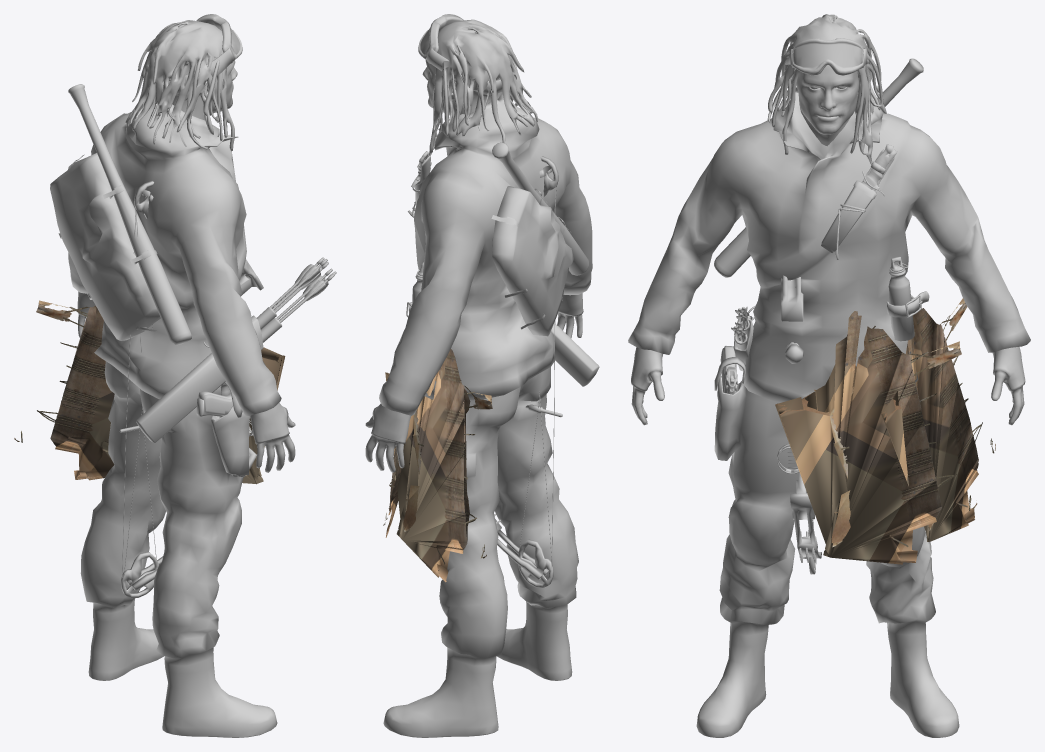
Rendered from hunter.fbx.
The picture shows the model from 3 angles, left to right: view 1: azimuth 30°, elevation 25°; view 2: azimuth 150°, elevation 25°; view 3: azimuth 270°, elevation 25°; orthographic projection. The views are drawn at different scales.
Parts seen in each view (by area): view 1: survivor, Tannery, bow, arrow_bunch, Tannery.001; view 2: survivor, Tannery, bow, Tannery.001; view 3: survivor, Tannery.001, Tannery, bow.
Boxes of the visible parts, x1,y1,x2,y2 form: survivor: (50, 14, 295, 737); Tannery: (14, 300, 114, 480); bow: (119, 180, 263, 597); arrow_bunch: (270, 257, 336, 322); Tannery.001: (242, 347, 285, 484); survivor: (365, 14, 599, 737); Tannery: (385, 349, 492, 582); bow: (494, 156, 562, 587); Tannery.001: (383, 443, 405, 537); survivor: (628, 14, 1030, 737); Tannery.001: (775, 311, 977, 564); Tannery: (881, 298, 995, 541); bow: (777, 275, 821, 574).
Size of the model in its own units: 59.57 by 190 by 98.33.
